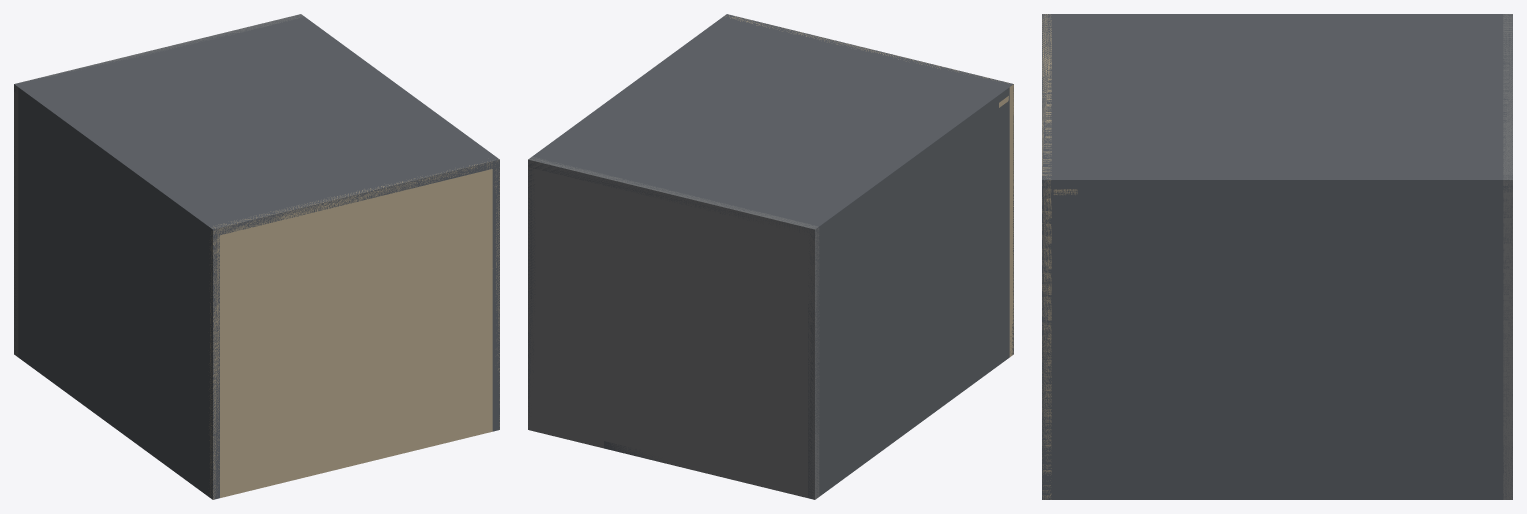
The picture shows the model from 3 angles, left to right: view 1: azimuth 30°, elevation 25°; view 2: azimuth 150°, elevation 25°; view 3: azimuth 270°, elevation 25°; orthographic projection. The views are drawn at different scales.
Visible parts, largest first — view 1: ceiling, back_wall, left_wall, right_wall, floor; view 2: floor, back_wall, left_wall, ceiling, right_wall; view 3: right_wall, back_wall, floor, ceiling, left_wall.
Part boxes in pixels (left/top/right/bottom): ceiling: left=209, top=159, right=499, bottom=499; back_wall: left=14, top=14, right=499, bottom=236; left_wall: left=14, top=85, right=219, bottom=499; right_wall: left=296, top=14, right=499, bottom=431; floor: left=14, top=14, right=303, bottom=356; floor: left=528, top=157, right=819, bottom=499; back_wall: left=528, top=14, right=1013, bottom=235; left_wall: left=808, top=87, right=1013, bottom=499; ceiling: left=724, top=15, right=1013, bottom=356; right_wall: left=528, top=14, right=732, bottom=428; right_wall: left=1042, top=175, right=1512, bottom=499; back_wall: left=1042, top=14, right=1512, bottom=188; floor: left=1503, top=14, right=1512, bottom=499; ceiling: left=1042, top=14, right=1051, bottom=499; left_wall: left=1042, top=14, right=1511, bottom=17.
Size of the model in its own units: 2 by 1.8 by 2.4.
